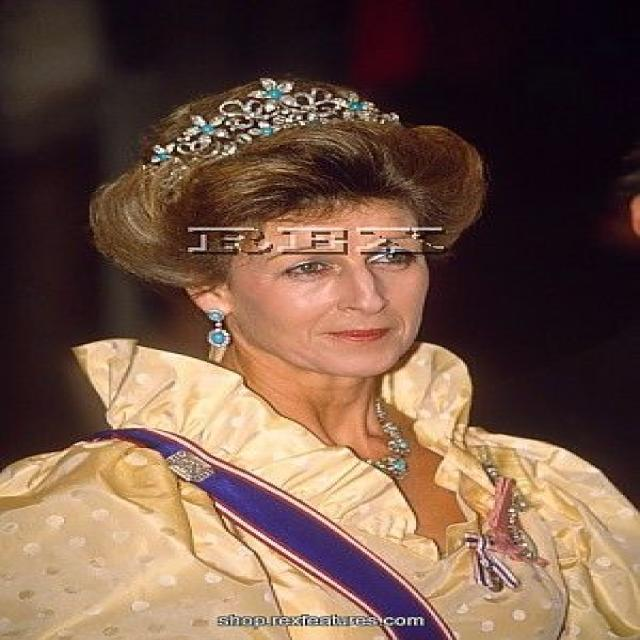Earring: (196, 291, 242, 354)
